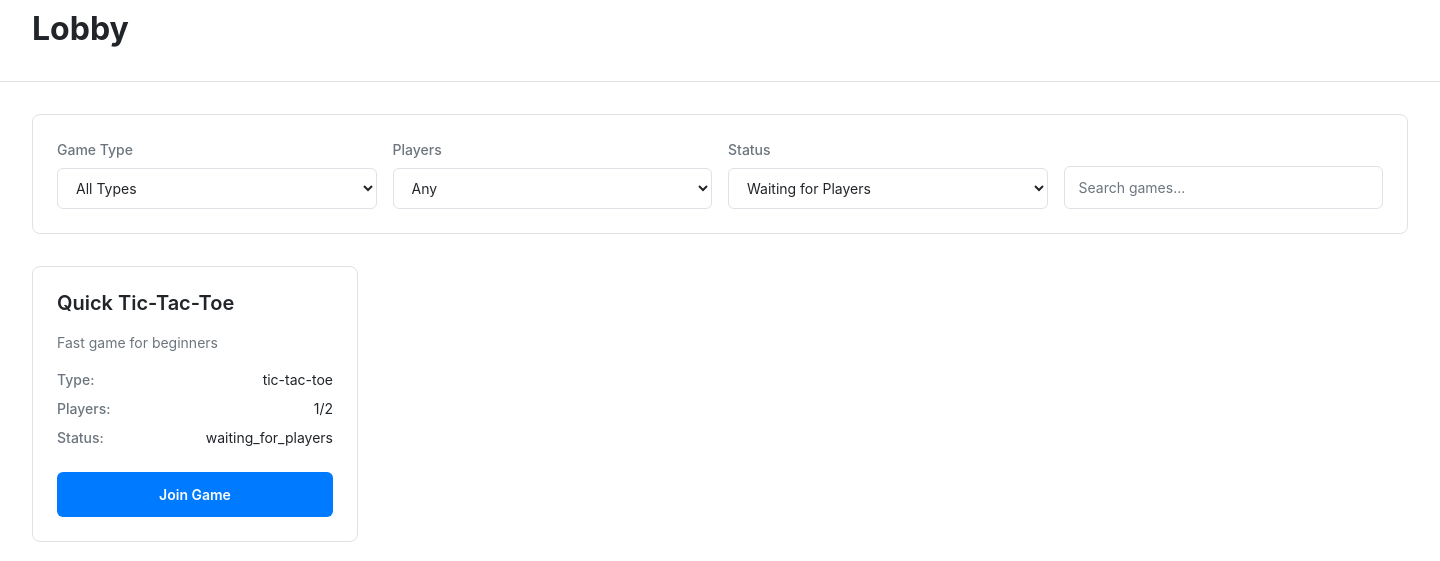
LobbyView › Filtering Logic › should filter games by search text
Expected: the heading "Quick Tic-Tac-Toe" is shown, [57, 291, 234, 316]
Note: First, change filter to show all games
Select "All" in the dropdown labelled "Status" at {"x": 888, "y": 188}, box [728, 168, 1048, 209]
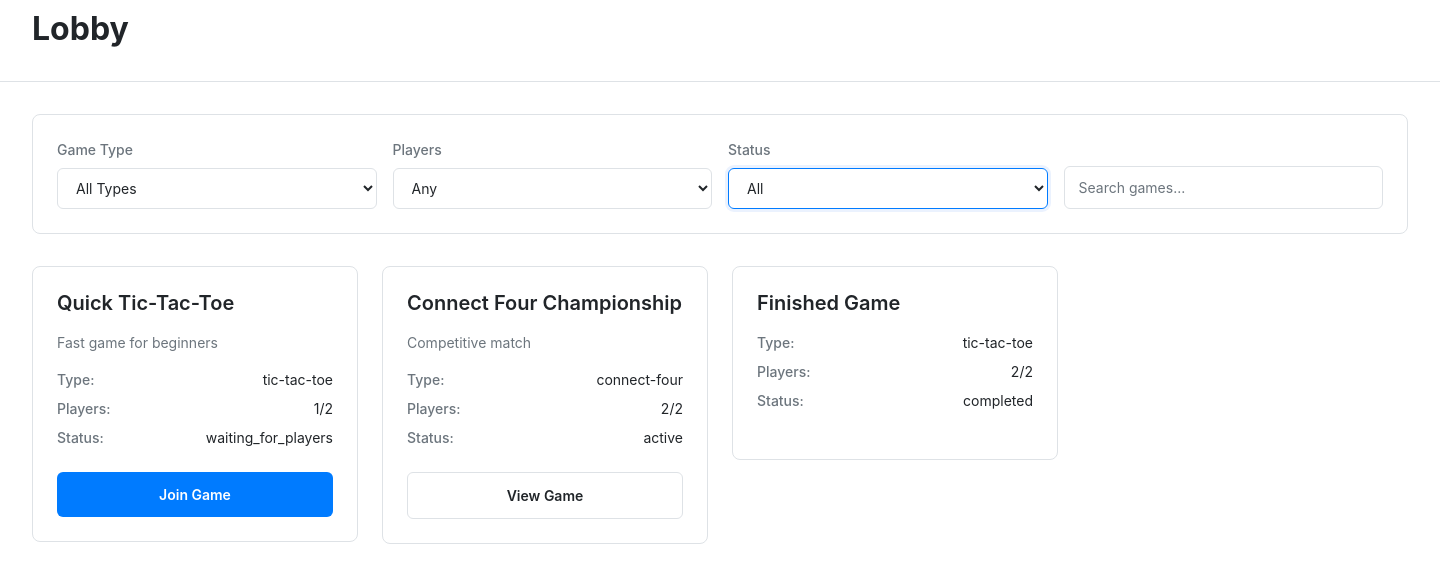
Expected: the heading "Connect Four Championship" is shown, [407, 291, 682, 316]
Note: Type in search box
Type "Championship" into the field with placeholder "Search games..." at {"x": 1223, "y": 188}, box [1064, 166, 1383, 209]
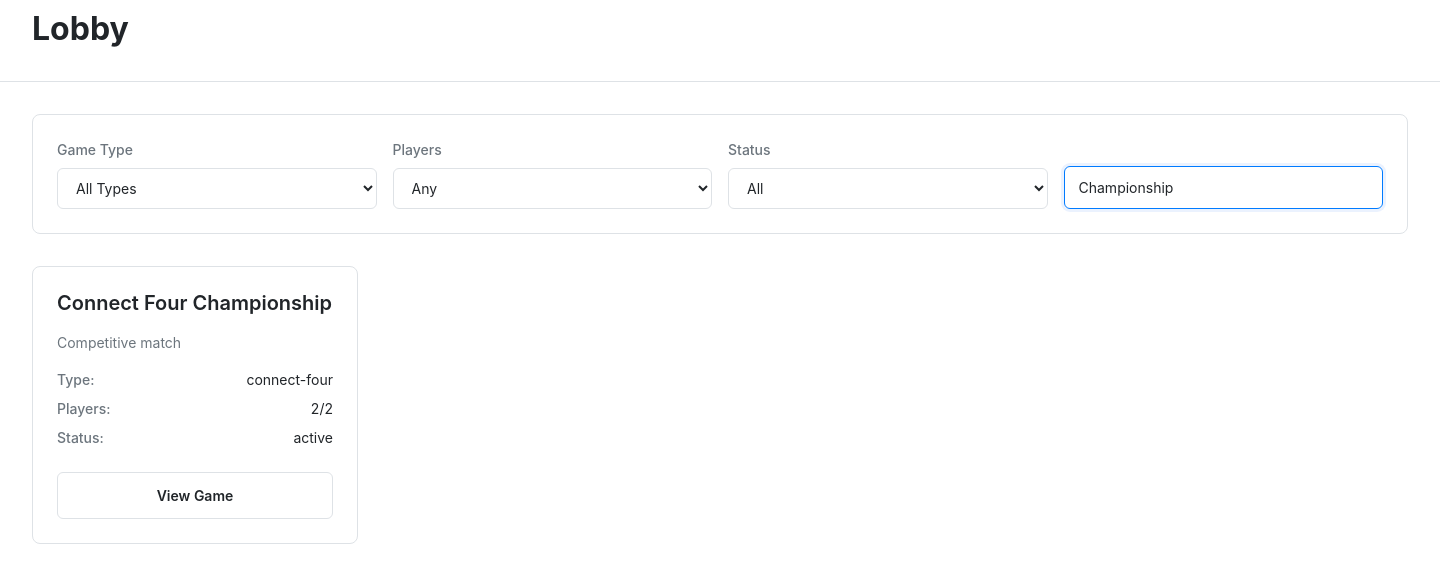
Expected: the heading "Connect Four Championship" is shown, [57, 291, 332, 316]
Expected: the heading "Quick Tic-Tac-Toe" is gone
Expected: the heading "Finished Game" is gone
